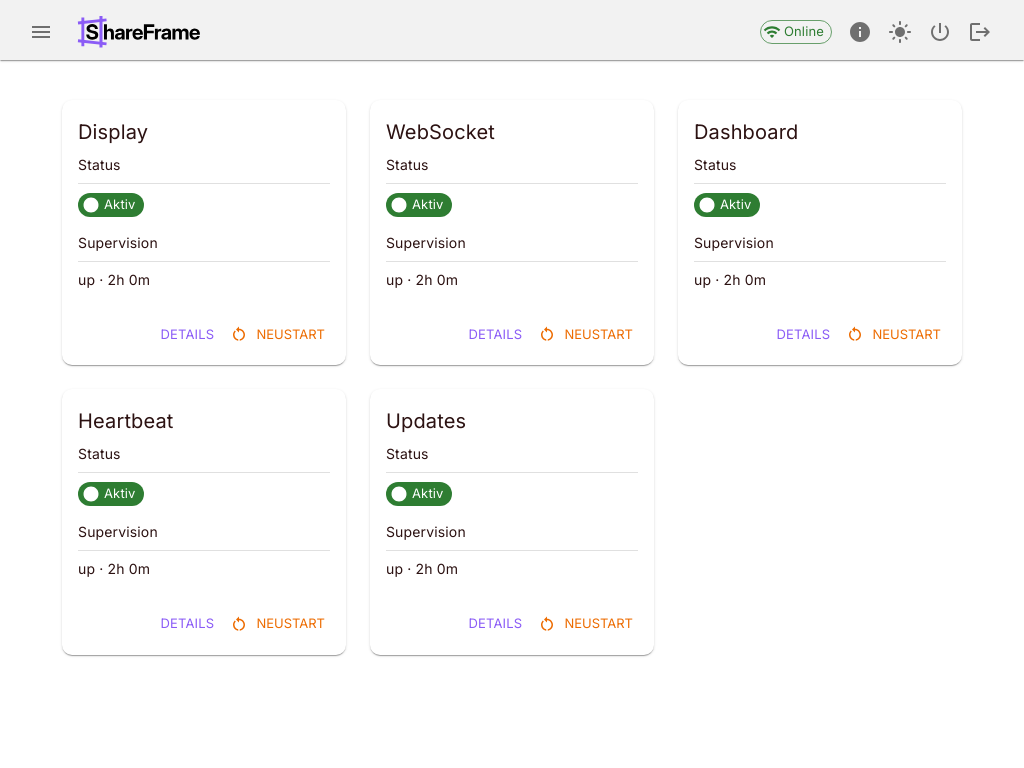
Test: services overview › shows the reason of a refused restart
Step 1. Click the button "Neustart" below "Display" → {"x": 279, "y": 334}, box [227,319,330,350]
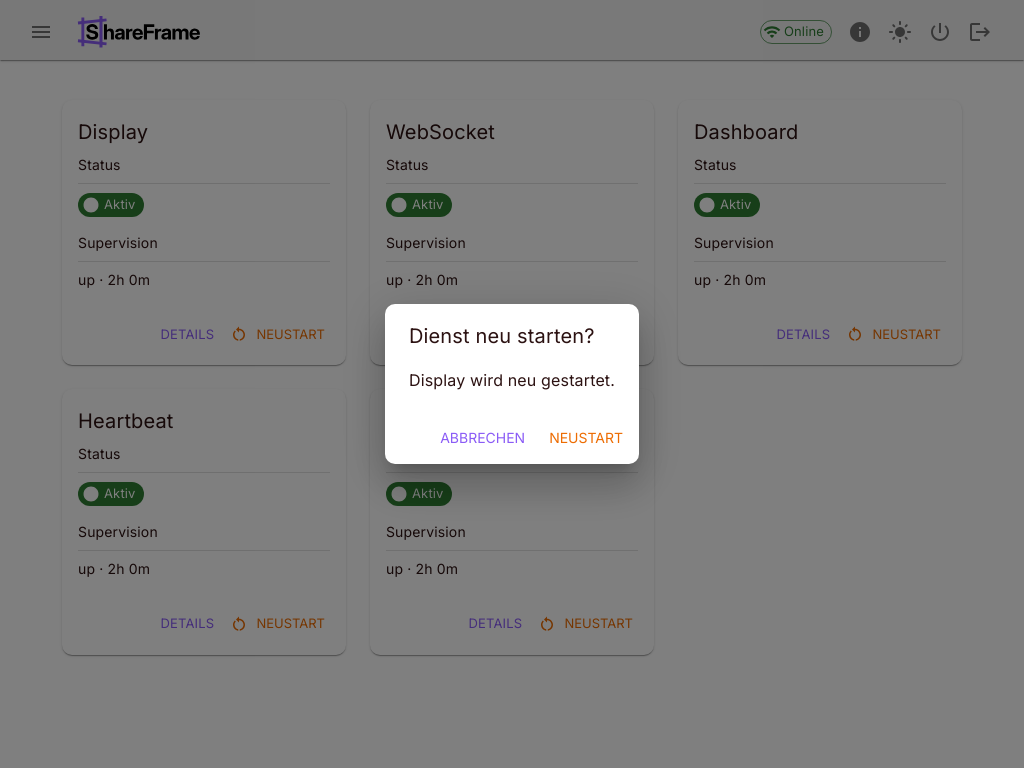
Step 2. Click the button "Neustart" → {"x": 586, "y": 438}, box [541,420,631,456]
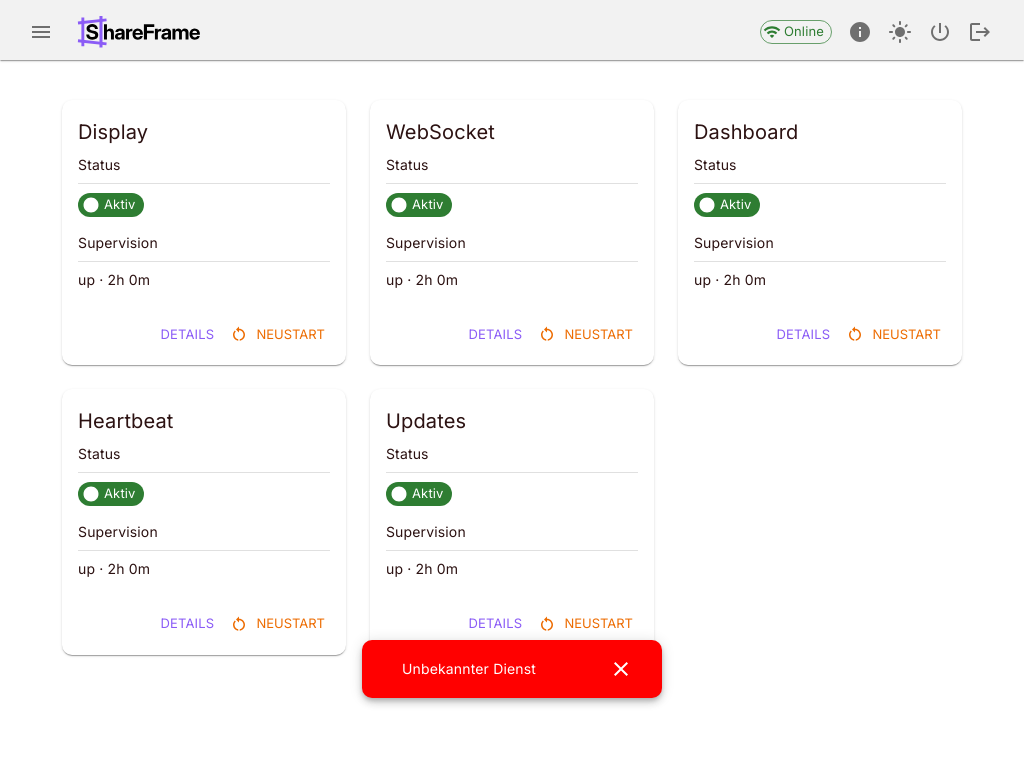
Result: the heading "Unbekannter Dienst" is shown at [402,658,536,680]
